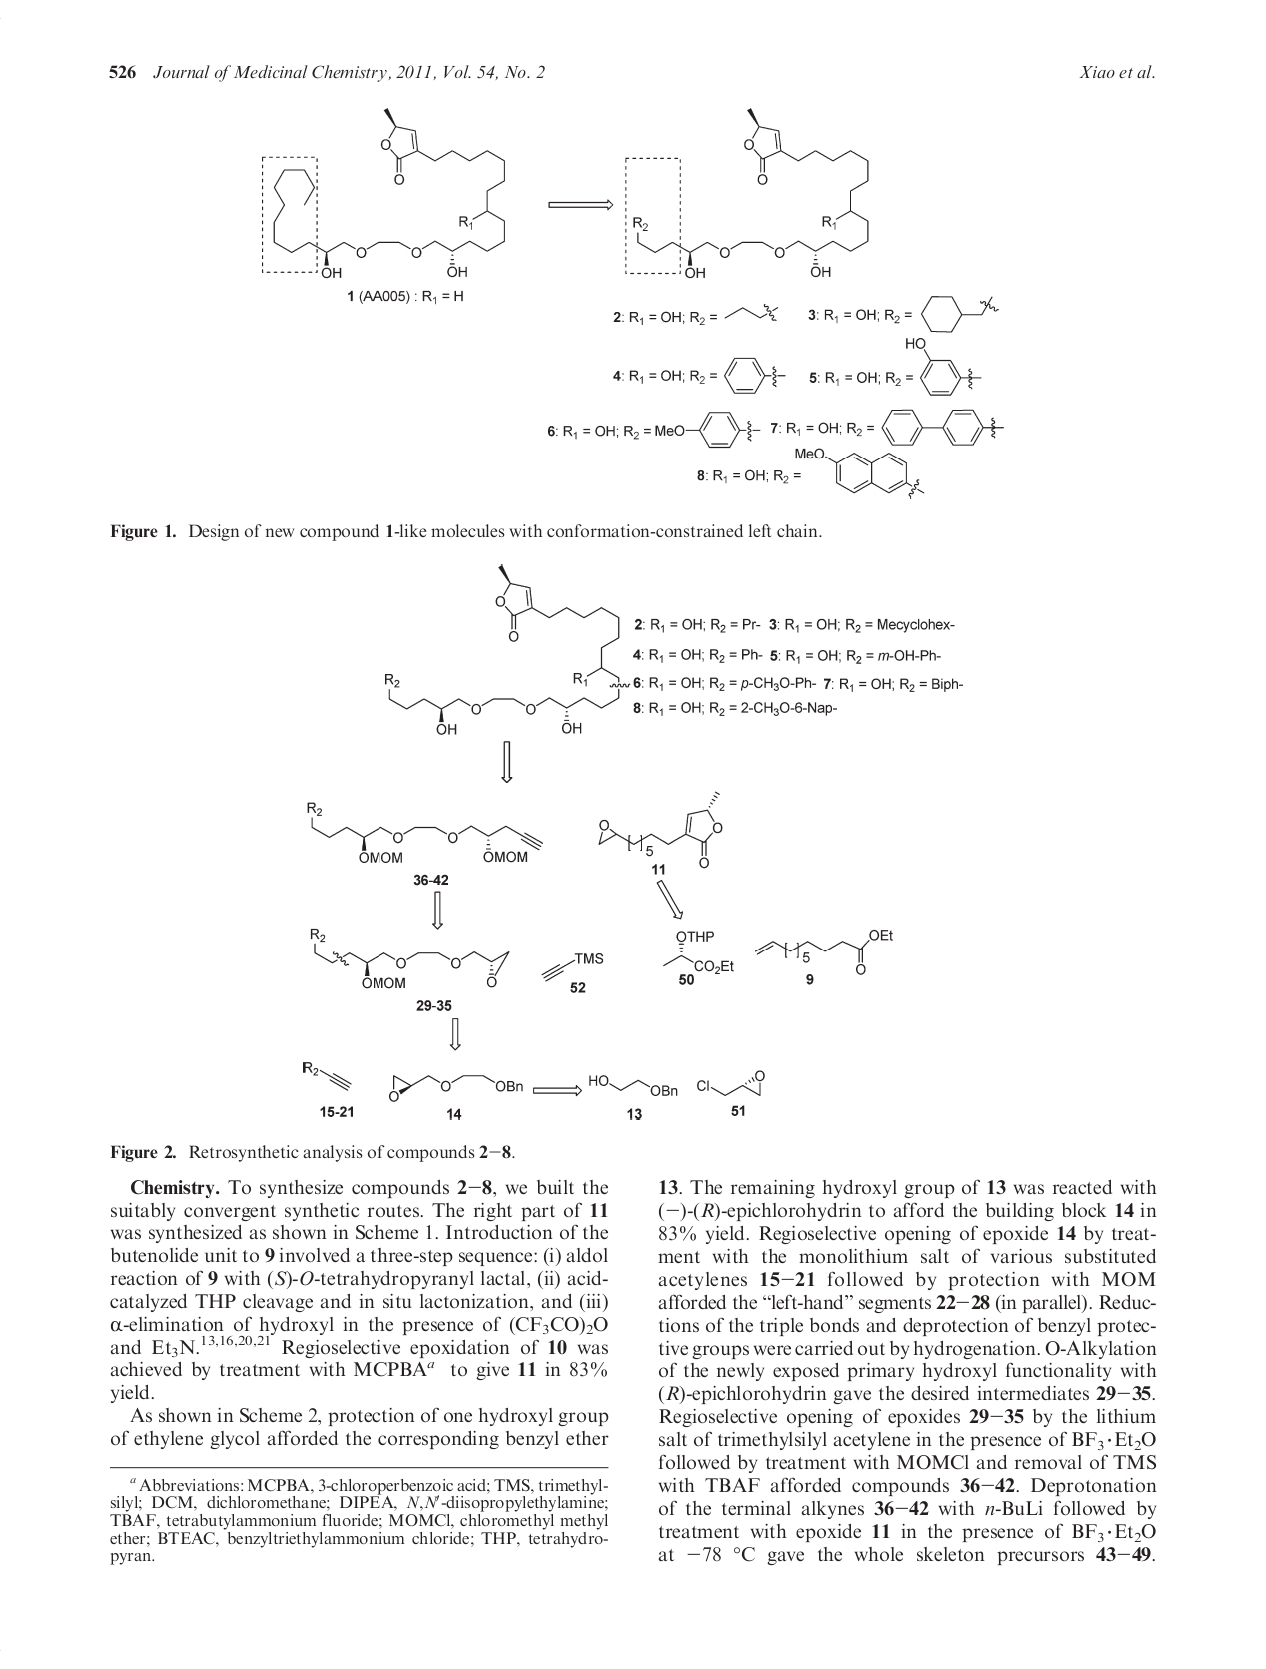exist_molecular: (382, 563, 636, 737), (632, 106, 871, 287), (270, 106, 515, 282), (305, 798, 545, 868), (309, 922, 513, 993), (596, 789, 723, 870), (795, 444, 926, 501), (754, 930, 896, 975), (879, 406, 1009, 449), (904, 332, 984, 398), (384, 1068, 525, 1102), (652, 410, 763, 451), (918, 289, 1004, 336), (660, 928, 735, 973), (722, 354, 790, 399), (585, 1073, 681, 1102), (693, 1067, 770, 1102), (298, 1051, 352, 1098), (539, 950, 604, 983), (719, 301, 785, 324)
